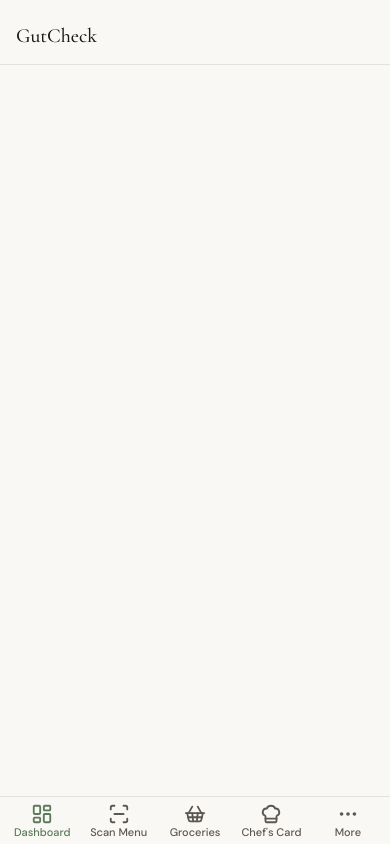
Navbar slide-out sheet › closes the sheet when the close control is activated
What coordinates should you click on to do the following:
click the button "More"
I would click on:
 (348, 820)
Its box is [310,797,386,843].
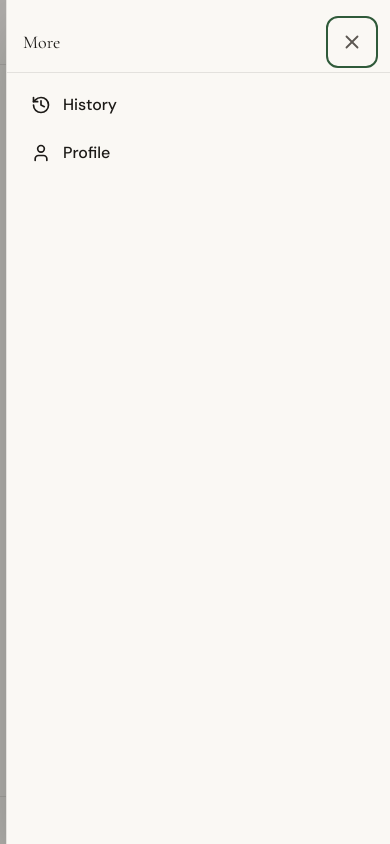
What coordinates should you click on to do the following:
click the 2nd button named "Close menu"
I would click on:
 (352, 42)
Its box is [330,20,374,64].
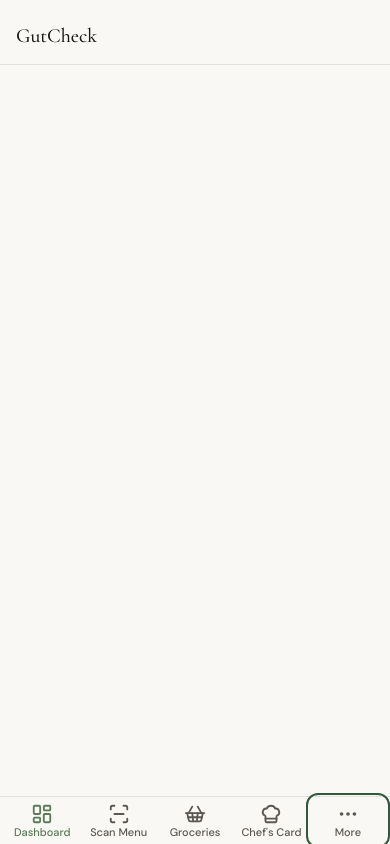
Expected: the dialog is gone
